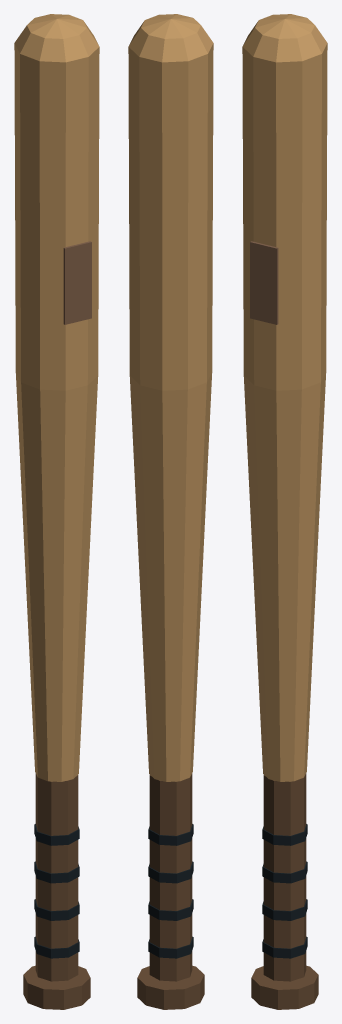
The model's file is b17_wooden_baseball_bat.glb.
3 views of the same model, side by side, from view 1: azimuth 30°, elevation 25°; view 2: azimuth 150°, elevation 25°; view 3: azimuth 330°, elevation 25° (orthographic).
Parts seen in each view (by area): view 1: b17_wooden_baseball_bat; view 2: b17_wooden_baseball_bat; view 3: b17_wooden_baseball_bat.
Boxes of the visible parts, x1=… form: b17_wooden_baseball_bat: x1=14, y1=14, x2=99, y2=1009; b17_wooden_baseball_bat: x1=128, y1=14, x2=213, y2=1009; b17_wooden_baseball_bat: x1=242, y1=14, x2=327, y2=1009.
Bounding box in the file's own units: 0.066 × 0.832 × 0.0644.
